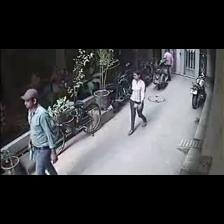person: (21, 89, 58, 174), (129, 72, 146, 135), (164, 49, 173, 81)
